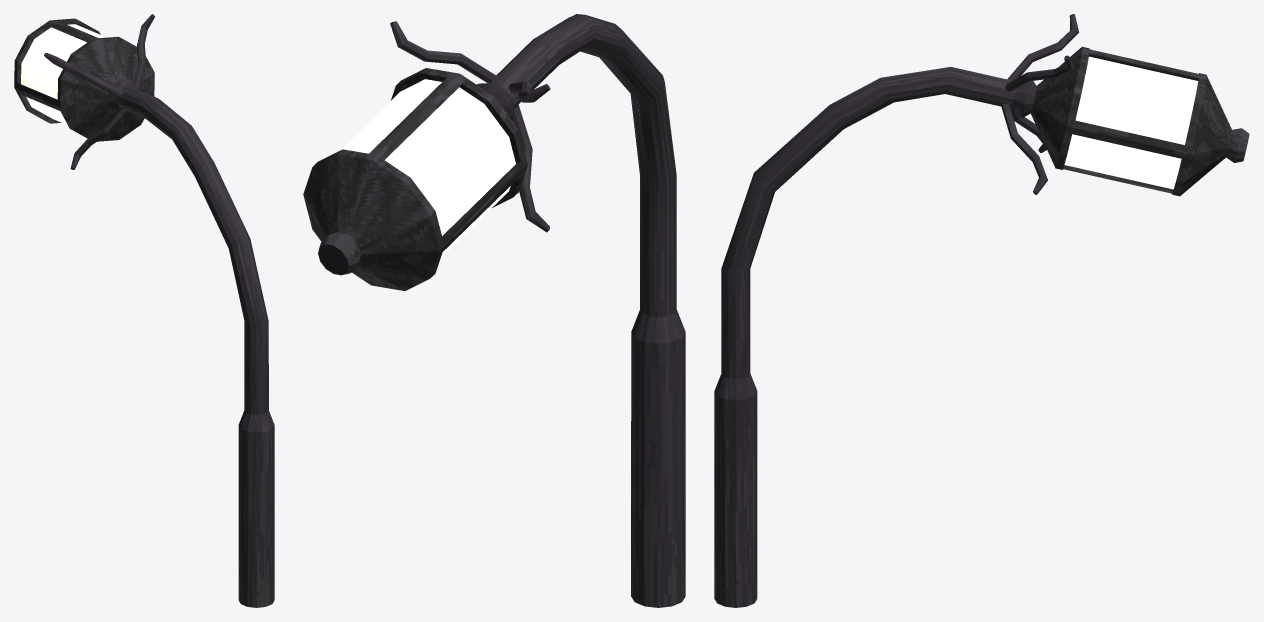
Rendered from SM_FarolaCurva.fbx.
The picture shows the model from 3 angles, left to right: view 1: azimuth 30°, elevation 25°; view 2: azimuth 150°, elevation 25°; view 3: azimuth 270°, elevation 25°; orthographic projection. The views are drawn at different scales.
Parts seen in each view (by area): view 1: La Farola; view 2: La Farola; view 3: La Farola.
Part boxes in pixels (x1=…): La Farola: x1=14, y1=14, x2=274, y2=607; La Farola: x1=303, y1=14, x2=685, y2=607; La Farola: x1=714, y1=14, x2=1249, y2=607.
Size of the model in its own units: 107 by 400 by 345.
1 material, 1 textured.
